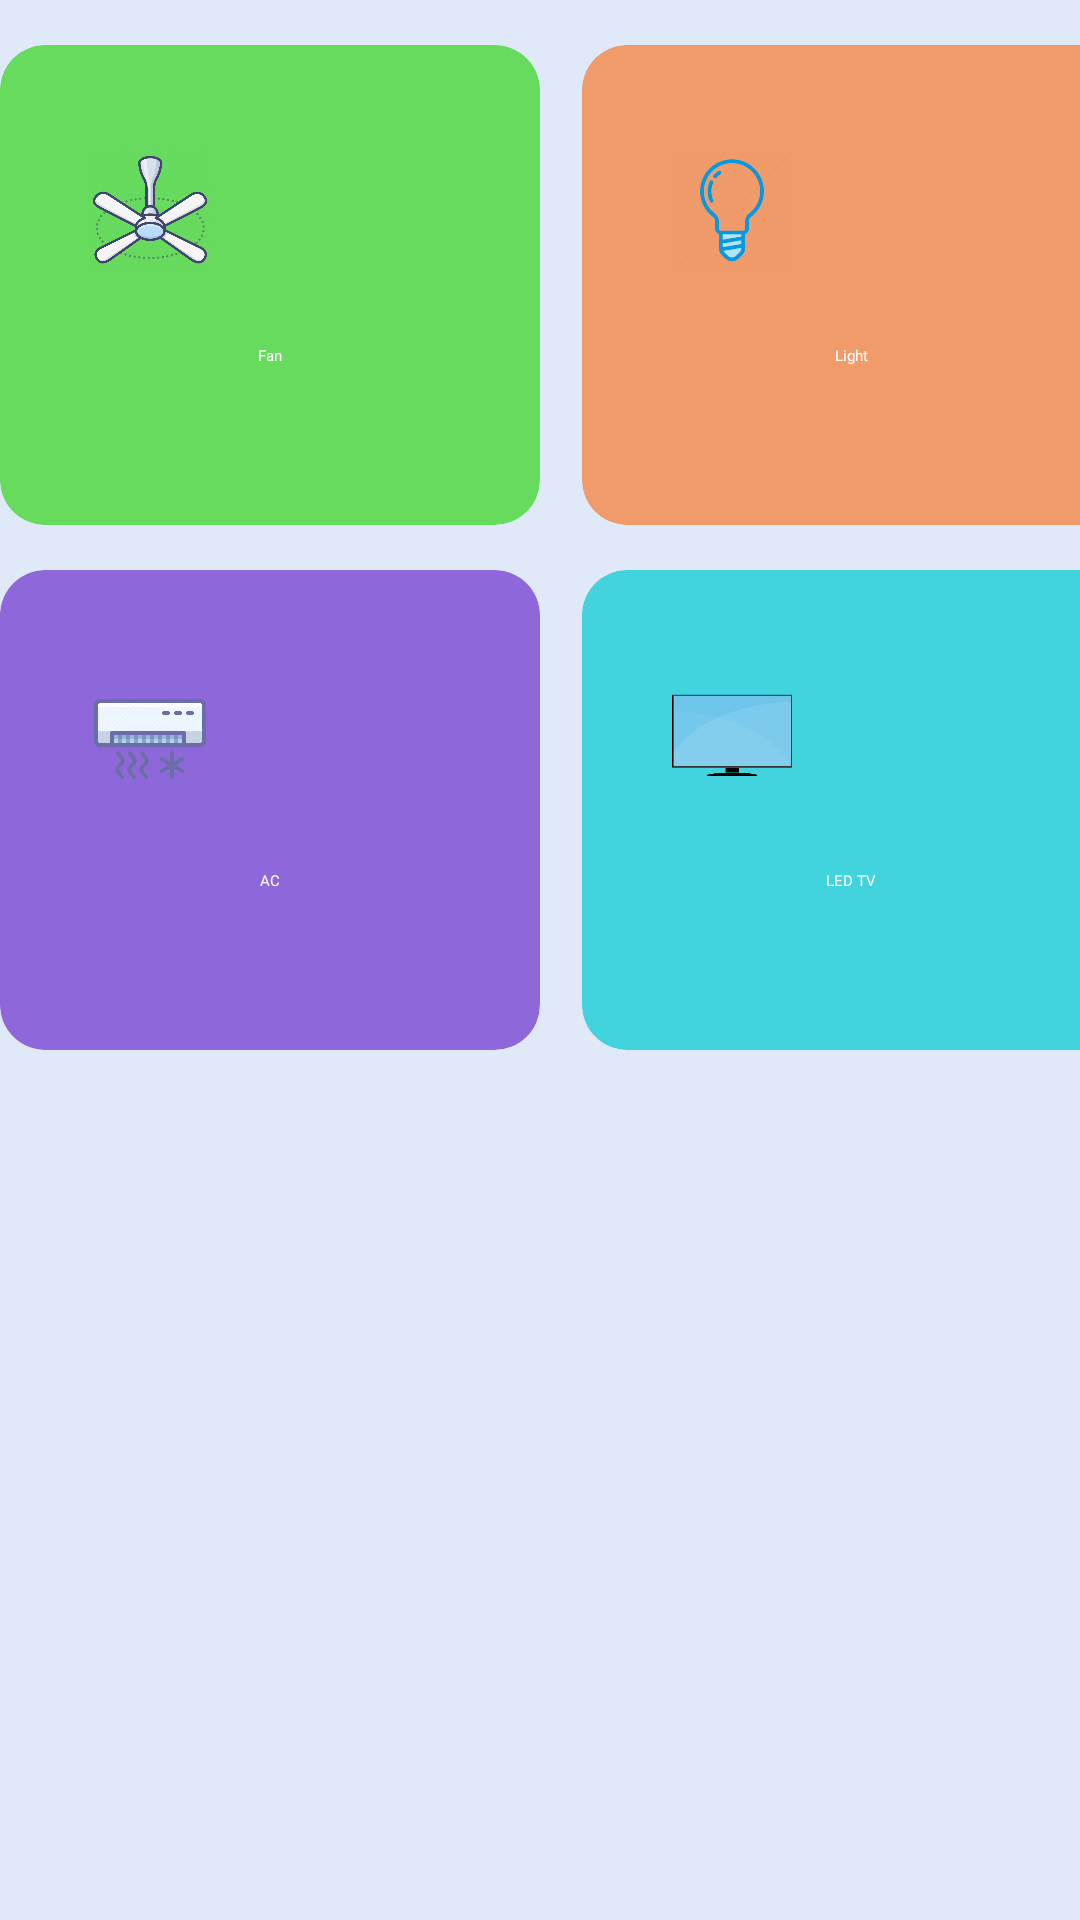

Named icons in this screenshot (1080*1920) and their centers, (x=x, y=y):
airconditioner: (x=150, y=739)
